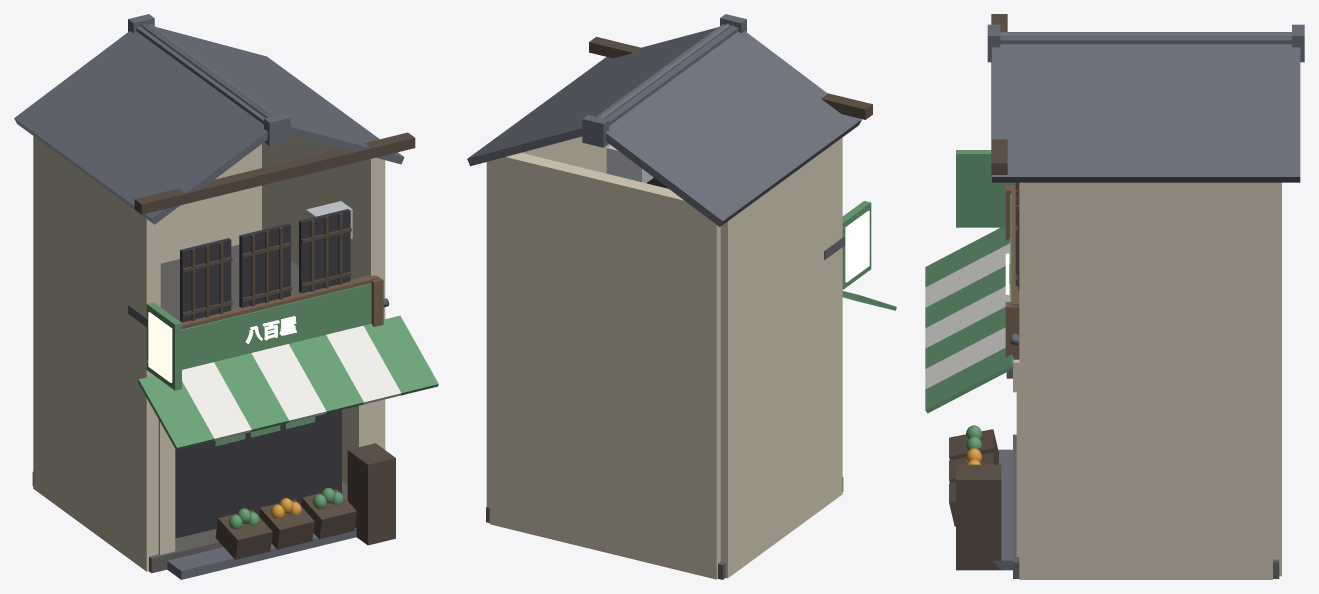
The model's file is prop_shop_yaoya.glb.
The picture shows the model from 3 angles, left to right: view 1: azimuth 30°, elevation 25°; view 2: azimuth 150°, elevation 25°; view 3: azimuth 270°, elevation 25°; orthographic projection. The views are drawn at different scales.
Visible parts, largest first — view 1: shop_yaoya; view 2: shop_yaoya; view 3: shop_yaoya.
Boxes of the visible parts, bbox=[...] form: shop_yaoya: bbox=[14, 14, 438, 579]; shop_yaoya: bbox=[467, 14, 896, 579]; shop_yaoya: bbox=[925, 14, 1304, 579].
Size of the model in its own units: 3.9 by 5.9 by 4.19.
